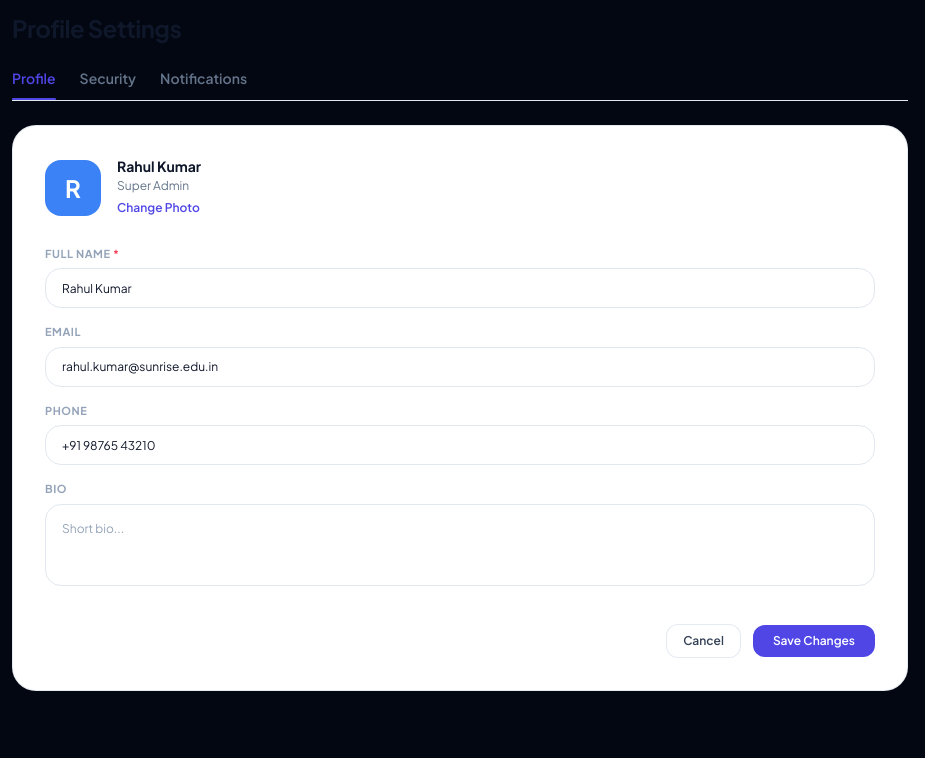
it: ProfileSettingsPage › switches to Notifications tab and toggles notification preferences
The image size is (925, 758).
# Click Notifications Tab
Click the button "Notifications" at (204, 84), box x1=160 y1=68 x2=247 y2=100
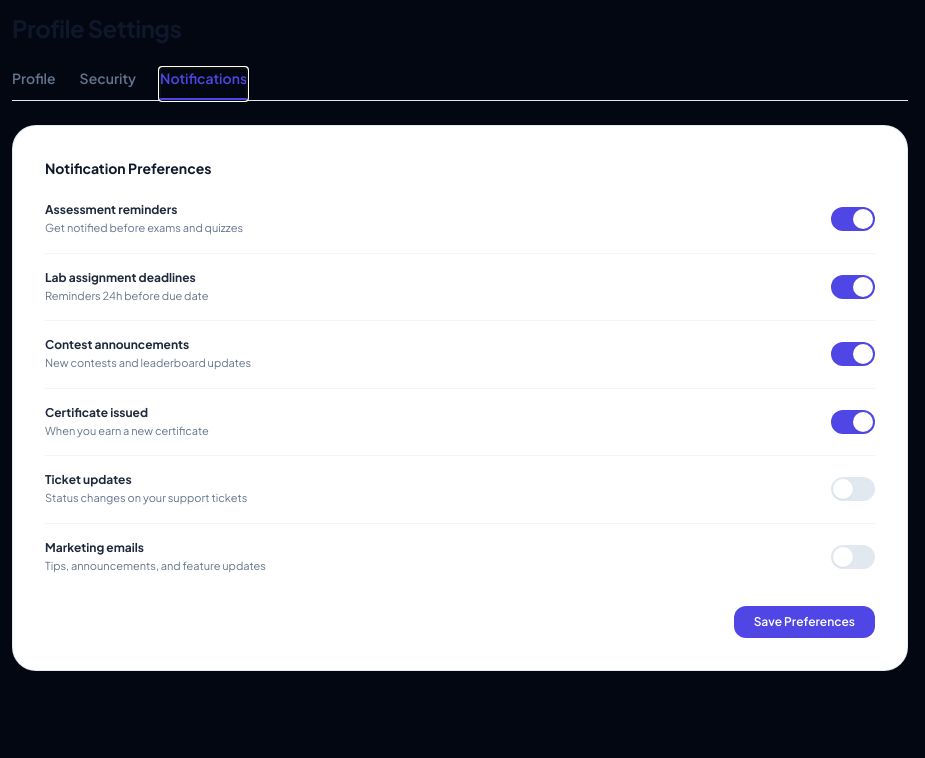
Expected: the heading "Notification Preferences" is shown, x1=45 y1=159 x2=211 y2=177
Expected: the text "Assessment reminders" is shown, x1=45 y1=202 x2=177 y2=217
Expected: the text "Lab assignment deadlines" is shown, x1=45 y1=270 x2=208 y2=286
# Toggle a switch
Click the switch in the row of "Get notified before exams and quizzes" at (853, 219), box x1=831 y1=207 x2=875 y2=231
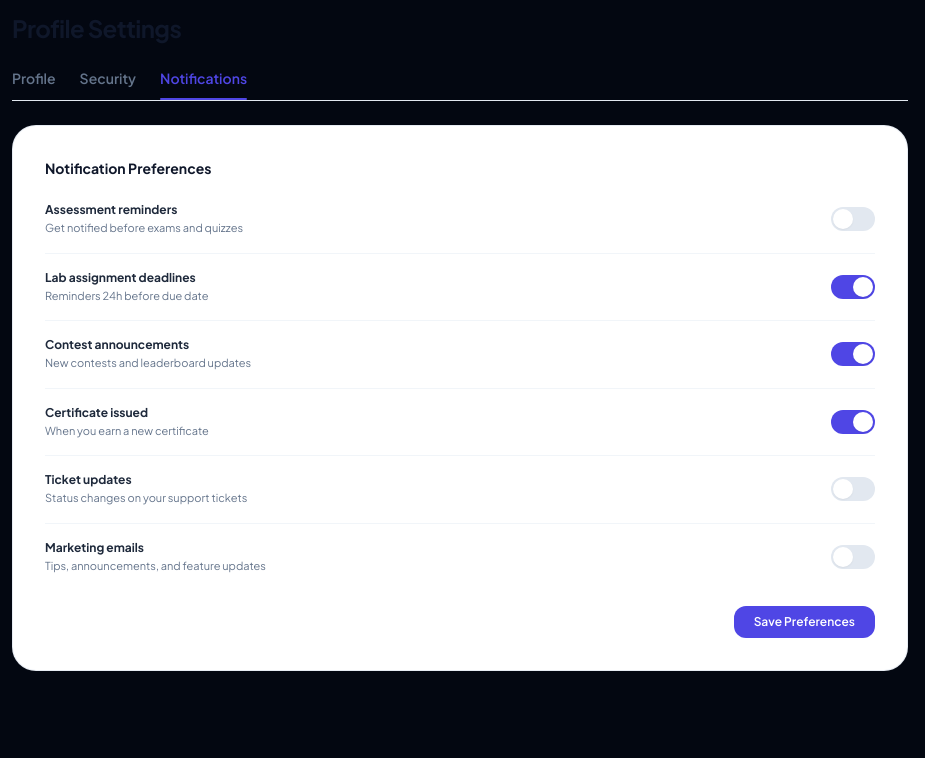
Click the button "Save Preferences" at (804, 622), box x1=734 y1=606 x2=875 y2=638
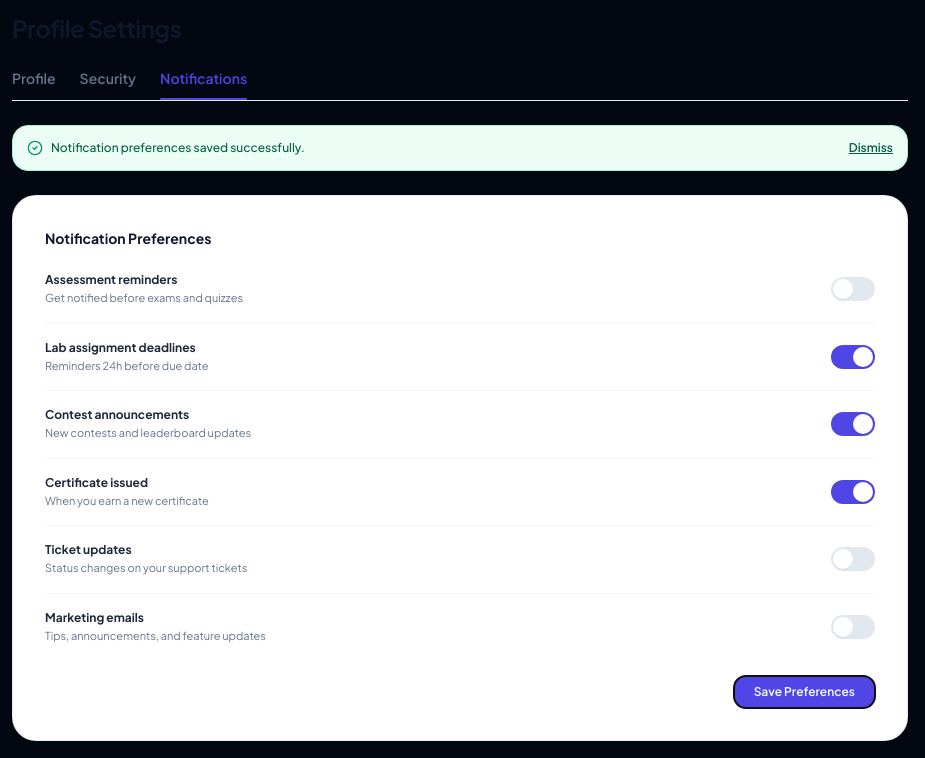
Expected: the text "Notification preferences saved successfully." is shown, x1=51 y1=140 x2=305 y2=156
